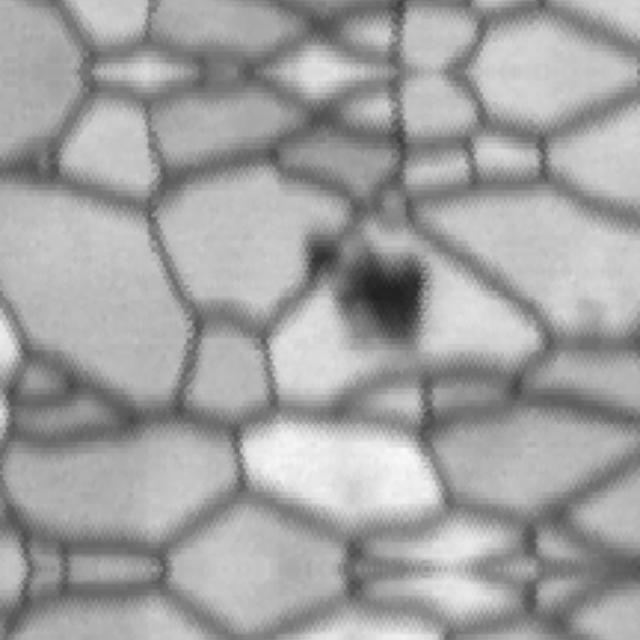good_void: (307, 235, 432, 356)
